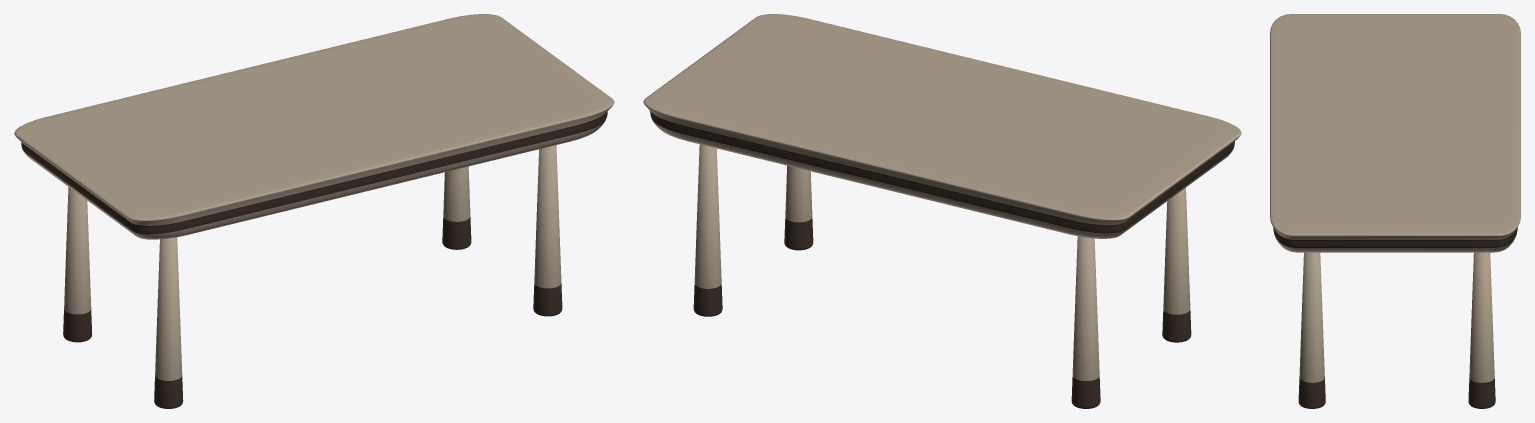
The model's file is big_dining_table.fbx.
3 views of the same model, side by side, from view 1: azimuth 30°, elevation 25°; view 2: azimuth 150°, elevation 25°; view 3: azimuth 270°, elevation 25° (orthographic). The views are drawn at different scales.
Visible parts, largest first — view 1: big_table_top, big_table_legs; view 2: big_table_top, big_table_legs; view 3: big_table_top, big_table_legs.
Part boxes in pixels (x1,y1,x2,y2): big_table_top: [14, 14, 614, 239]; big_table_legs: [63, 145, 562, 408]; big_table_top: [643, 14, 1241, 238]; big_table_legs: [693, 144, 1191, 408]; big_table_top: [1270, 14, 1520, 252]; big_table_legs: [1298, 252, 1495, 408].
Size of the model in its own units: 231 by 94.37 by 111.
